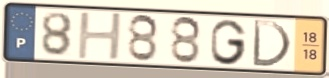8: (168, 15, 204, 66), (125, 13, 161, 64), (39, 11, 76, 58)
D: (250, 18, 294, 70)
G: (209, 18, 249, 67)
H: (75, 11, 125, 61)
